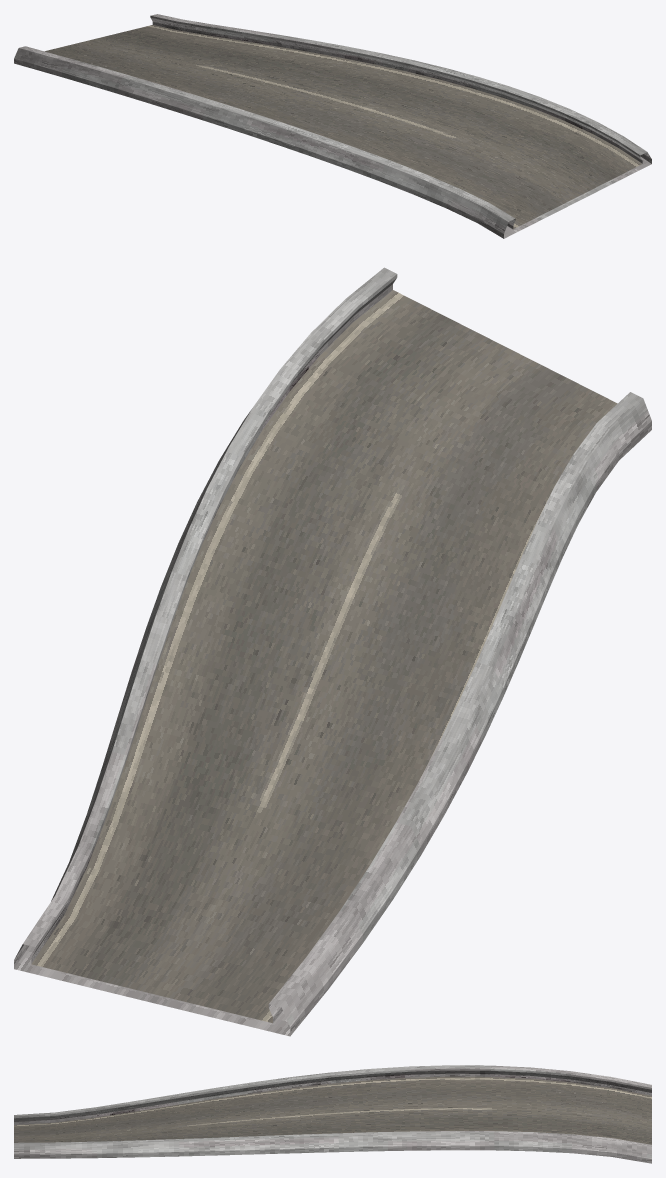
Rendered from road-Chicane-HalfBankedLeft-BiSlopeDown-Down1-Left1-Size4.glb.
The picture shows the model from 3 angles, top to bottom: view 1: azimuth 30°, elevation 25°; view 2: azimuth 150°, elevation 25°; view 3: azimuth 270°, elevation 25°; orthographic projection. The views are drawn at different scales.
Visible parts, largest first — view 1: road-Chicane-HalfBankedLeft-BiSlopeDown-Down1-Left1-Size4; view 2: road-Chicane-HalfBankedLeft-BiSlopeDown-Down1-Left1-Size4; view 3: road-Chicane-HalfBankedLeft-BiSlopeDown-Down1-Left1-Size4.
Part boxes in pixels (box(x1,y1,x2,y2)): road-Chicane-HalfBankedLeft-BiSlopeDown-Down1-Left1-Size4: box(14, 14, 651, 238); road-Chicane-HalfBankedLeft-BiSlopeDown-Down1-Left1-Size4: box(14, 267, 651, 1036); road-Chicane-HalfBankedLeft-BiSlopeDown-Down1-Left1-Size4: box(14, 1065, 651, 1163).
Size of the model in its own units: 2 by 0.5859 by 4.
Materials: 2 (2 with a texture image).
